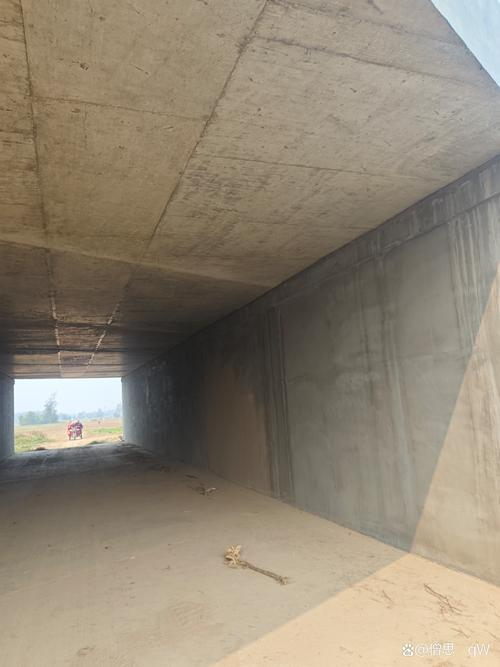tunnel_entrance: (0, 351, 151, 489)
